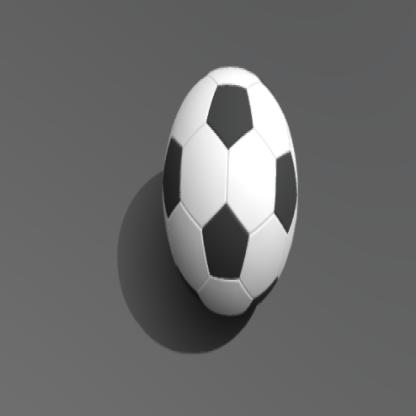ball: (163, 67, 298, 317)
